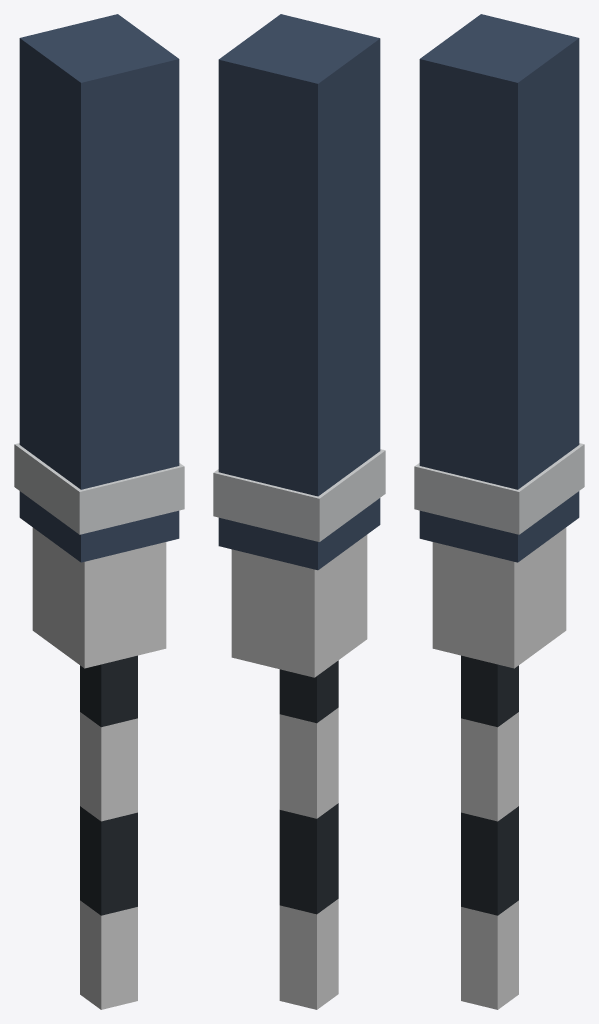
File: officer_right_arm.glb
The picture shows the model from 3 angles, left to right: view 1: azimuth 30°, elevation 25°; view 2: azimuth 150°, elevation 25°; view 3: azimuth 330°, elevation 25°; orthographic projection.
Visible parts, largest first — view 1: officer_right_arm; view 2: officer_right_arm; view 3: officer_right_arm.
Boxes of the visible parts, x1=… form: officer_right_arm: x1=14, y1=14, x2=184, y2=1009; officer_right_arm: x1=213, y1=14, x2=385, y2=1009; officer_right_arm: x1=414, y1=14, x2=584, y2=1009.
Bounding box in the file's own units: 0.128 × 1.1 × 0.138.
